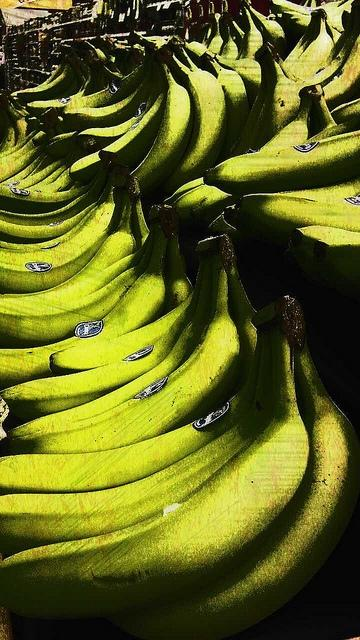banana: (0, 325, 312, 621), (102, 339, 360, 640), (0, 326, 276, 540), (10, 254, 240, 455), (0, 330, 262, 496), (6, 255, 217, 438), (0, 252, 205, 414), (0, 204, 175, 390), (170, 90, 337, 224), (4, 216, 160, 348), (163, 98, 312, 206), (1, 190, 136, 298), (0, 186, 124, 294), (50, 289, 195, 376), (0, 230, 151, 308), (202, 130, 360, 198), (157, 46, 229, 195), (0, 157, 117, 244), (129, 53, 194, 198), (69, 91, 167, 182), (1, 151, 117, 226), (76, 50, 158, 154), (63, 46, 154, 129), (266, 31, 360, 89), (228, 46, 274, 158), (234, 192, 359, 232), (0, 167, 103, 214), (0, 204, 101, 251), (208, 59, 250, 168), (63, 62, 147, 112), (240, 1, 290, 62), (314, 237, 360, 302), (322, 34, 360, 112), (224, 204, 292, 246), (17, 53, 75, 101), (0, 151, 73, 189), (8, 53, 64, 101), (291, 17, 334, 78), (163, 232, 194, 316), (214, 56, 262, 110), (0, 131, 48, 183), (25, 78, 91, 113), (23, 152, 76, 192), (284, 12, 318, 70), (288, 0, 354, 28), (301, 115, 360, 144), (278, 180, 360, 200), (130, 178, 150, 252), (0, 154, 44, 184), (268, 0, 348, 16), (207, 212, 248, 242), (242, 5, 263, 60), (30, 168, 74, 193), (7, 106, 28, 146), (227, 12, 246, 54), (330, 98, 360, 124), (219, 24, 238, 62), (207, 12, 224, 54), (84, 41, 108, 62), (0, 126, 16, 154), (129, 44, 145, 69), (142, 38, 167, 52), (184, 42, 207, 56), (196, 26, 202, 43)
